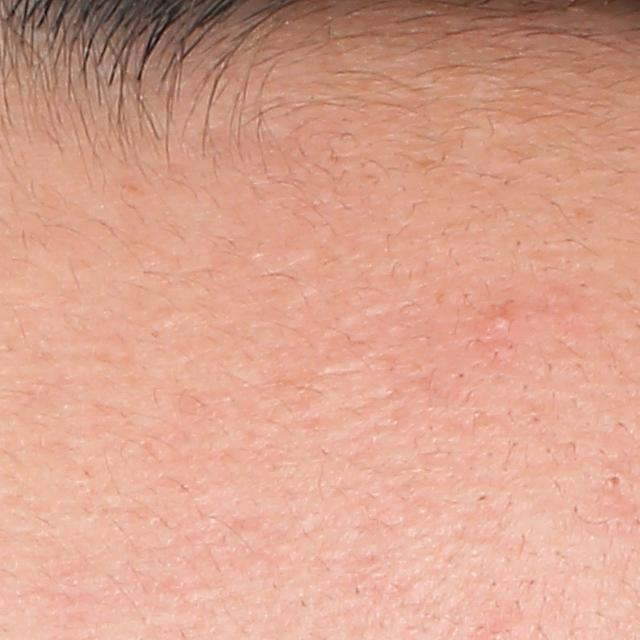comedo: (601, 471, 628, 494)
